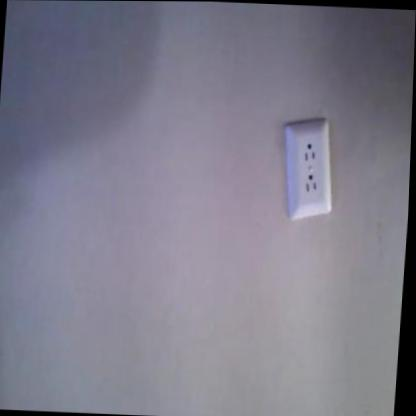OUTLET: (276, 117, 341, 222)
